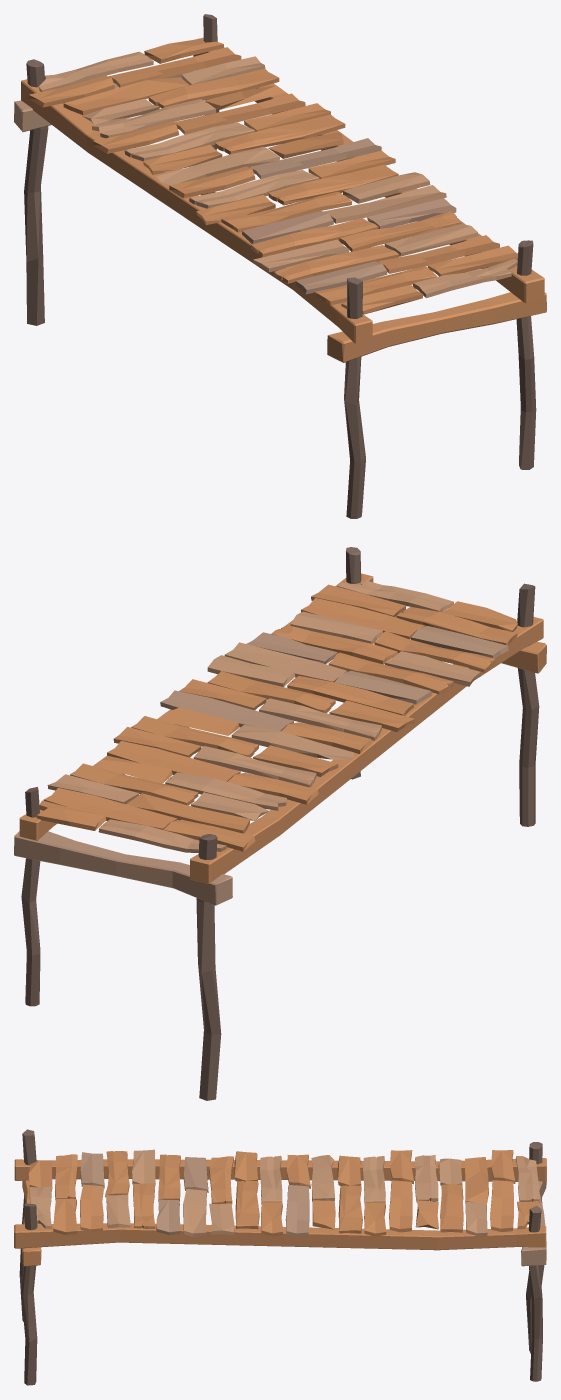
Rendered from dock.fbx.
The picture shows the model from 3 angles, top to bottom: view 1: azimuth 30°, elevation 25°; view 2: azimuth 150°, elevation 25°; view 3: azimuth 270°, elevation 25°; orthographic projection. The views are drawn at different scales.
Visible parts, largest first — view 1: Cube.017, Cube.028, Cylinder.002, Cylinder.003, Cylinder, Cube.034, Cube.042, Cube.022, Cube.038, Cube.001, Cube.007, Cube.014 (+35 smaller); view 2: Cube.017, Cube.030, Cylinder.002, Cylinder.003, Cylinder.001, Cube.041, Cube.033, Cube.021, Cube.011, Cube.014, Cube.004, Cube.018 (+35 smaller); view 3: Cube.016, Cube.017, Cylinder, Cylinder.001, Cube.033, Cube.021, Cube.041, Cube.042, Cube.034, Cube.022, Cube.011, Cube.004 (+36 smaller).
Boxes of the visible parts, <box> form: Cube.017: <box>21,79,372,343</box>; Cube.028: <box>327,292,546,362</box>; Cylinder.002: <box>24,59,48,325</box>; Cylinder.003: <box>344,277,365,518</box>; Cylinder: <box>516,240,536,469</box>; Cube.034: <box>215,114,345,154</box>; Cube.042: <box>148,68,279,108</box>; Cube.022: <box>268,164,398,205</box>; Cube.038: <box>63,77,189,115</box>; Cube.001: <box>251,218,378,257</box>; Cube.007: <box>273,245,399,284</box>; Cube.014: <box>221,191,352,232</box>; Cube.017: <box>190,617,543,884</box>; Cube.030: <box>14,831,232,905</box>; Cylinder.002: <box>196,834,221,1100</box>; Cylinder.003: <box>517,583,539,826</box>; Cylinder.001: <box>21,787,40,1006</box>; Cube.041: <box>43,788,177,829</box>; Cube.033: <box>107,741,240,781</box>; Cube.021: <box>160,690,293,730</box>; Cube.011: <box>224,642,347,682</box>; Cube.014: <box>287,676,413,715</box>; Cube.004: <box>301,598,423,639</box>; Cube.018: <box>259,698,382,740</box>; Cube.016: <box>14,1223,546,1250</box>; Cube.017: <box>14,1158,546,1182</box>; Cylinder: <box>21,1203,37,1385</box>; Cylinder.001: <box>528,1206,542,1381</box>; Cube.033: <box>389,1180,412,1232</box>; Cube.021: <box>285,1185,309,1236</box>; Cube.041: <box>490,1180,513,1231</box>; Cube.042: <box>440,1184,463,1232</box>; Cube.034: <box>338,1185,362,1233</box>; Cube.022: <box>235,1181,259,1229</box>; Cube.011: <box>183,1189,206,1237</box>; Cube.004: <box>80,1184,103,1232</box>.
Size of the model in its own units: 1804 by 4917 by 2237.
